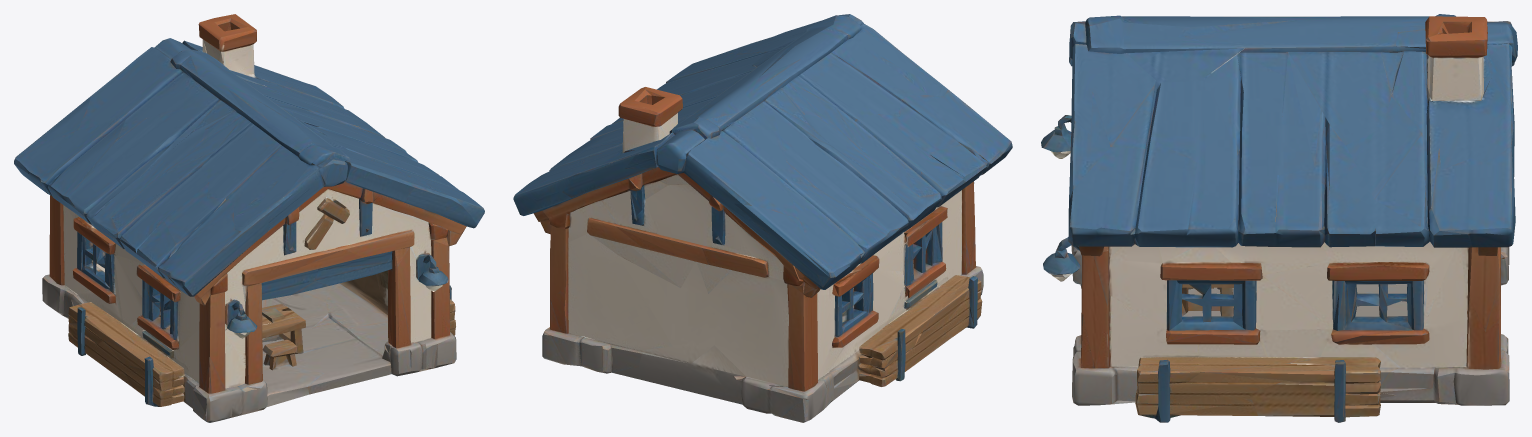
The model's file is workshop.glb.
3 views of the same model, side by side, from view 1: azimuth 30°, elevation 25°; view 2: azimuth 150°, elevation 25°; view 3: azimuth 270°, elevation 25° (orthographic). The views are drawn at different scales.
Parts seen in each view (by area): view 1: Mesh_0; view 2: Mesh_0; view 3: Mesh_0.
Boxes of the visible parts, <box> form: Mesh_0: <box>14,14,484,422</box>; Mesh_0: <box>513,14,1012,422</box>; Mesh_0: <box>1041,14,1517,422</box>.
Bounding box in the file's own units: 2.89 × 2.28 × 3.
1 material, 1 textured.
